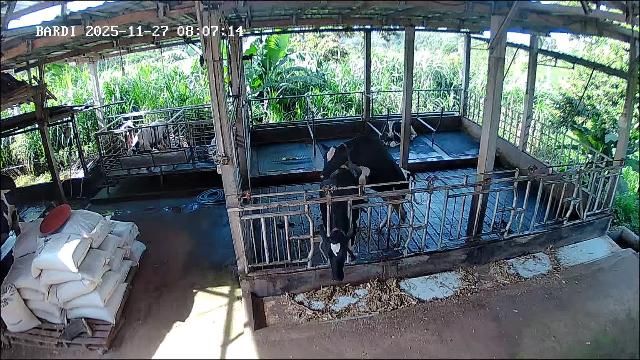mounting: (319, 131, 415, 246)
